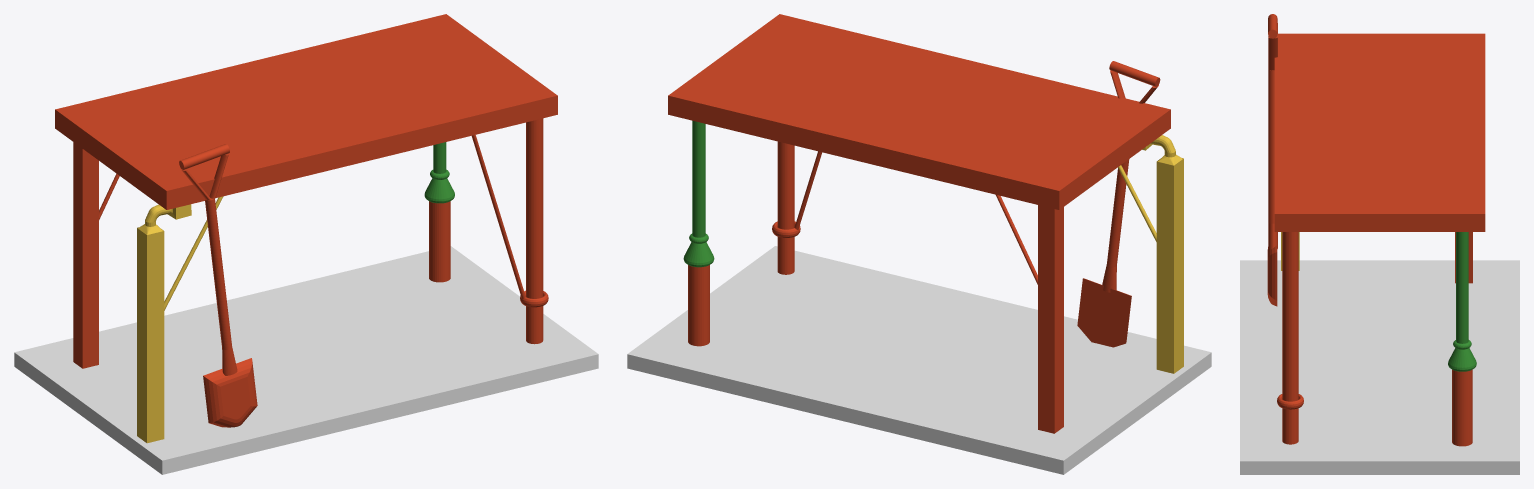
File: Seodo_Statue5.fbx
3 renders of one model, left to right at view 1: azimuth 30°, elevation 25°; view 2: azimuth 150°, elevation 25°; view 3: azimuth 270°, elevation 25°, orthographic. The views are drawn at different scales.
Parts seen in each view (by area): view 1: SM_Statue5_Desk, SM_Statue5_Support, SM_Statue5_Desk3, SM_Statue5_Shovels, SM_Statue5_Desk2; view 2: SM_Statue5_Support, SM_Statue5_Desk, SM_Statue5_Desk3, SM_Statue5_Shovels, SM_Statue5_Desk2; view 3: SM_Statue5_Support, SM_Statue5_Desk, SM_Statue5_Shovels, SM_Statue5_Desk2.
Boxes of the visible parts, bbox=[...] form: SM_Statue5_Desk: bbox=[55, 14, 557, 368]; SM_Statue5_Support: bbox=[14, 246, 598, 474]; SM_Statue5_Desk3: bbox=[137, 196, 223, 443]; SM_Statue5_Shovels: bbox=[179, 144, 257, 427]; SM_Statue5_Desk2: bbox=[424, 142, 454, 203]; SM_Statue5_Support: bbox=[627, 246, 1211, 474]; SM_Statue5_Desk: bbox=[668, 14, 1170, 433]; SM_Statue5_Desk3: bbox=[1118, 135, 1183, 373]; SM_Statue5_Shovels: bbox=[1077, 61, 1160, 347]; SM_Statue5_Desk2: bbox=[683, 120, 714, 267]; SM_Statue5_Support: bbox=[1240, 260, 1519, 474]; SM_Statue5_Desk: bbox=[1274, 33, 1485, 446]; SM_Statue5_Shovels: bbox=[1267, 14, 1277, 306]; SM_Statue5_Desk2: bbox=[1448, 232, 1476, 371].
Size of the model in its own units: 858 by 560 by 504.
